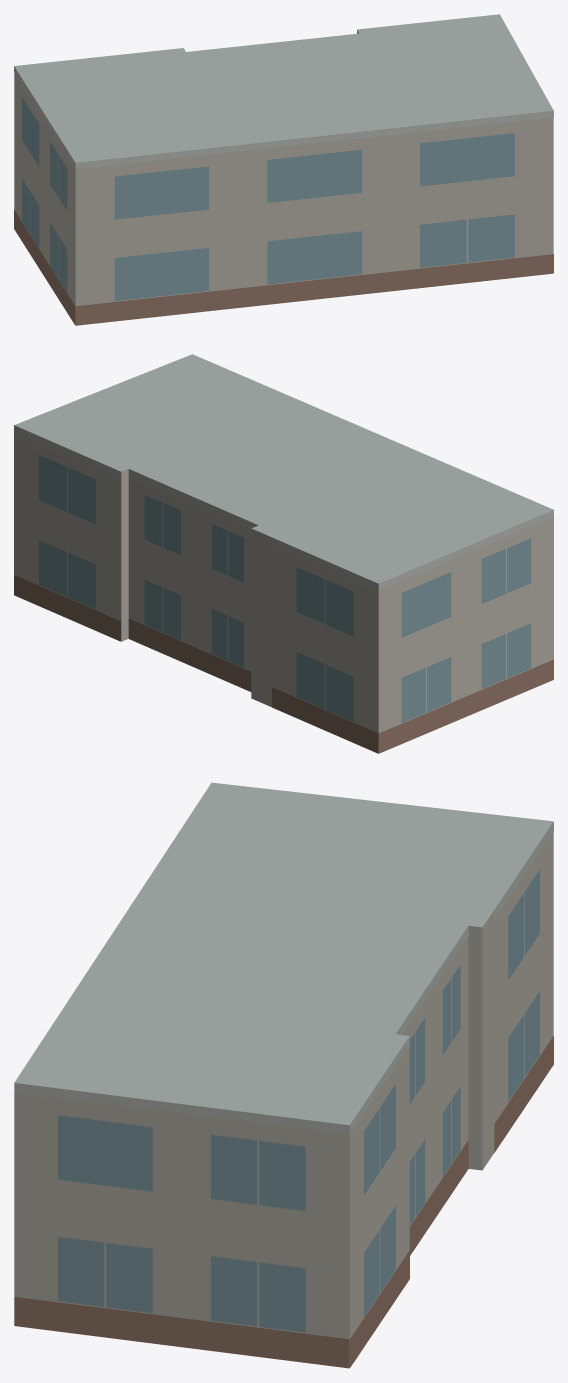
Rendered from survey-upis-32855589.glb.
3 renders of one model, top to bottom at view 1: azimuth 30°, elevation 25°; view 2: azimuth 150°, elevation 25°; view 3: azimuth 270°, elevation 25°, orthographic. The views are drawn at different scales.
Visible parts, largest first — view 1: survey-upis-32855589.tmp; view 2: survey-upis-32855589.tmp; view 3: survey-upis-32855589.tmp.
Boxes of the visible parts, x1,y1,x2,y2 form: survey-upis-32855589.tmp: (14, 14, 553, 325); survey-upis-32855589.tmp: (14, 354, 553, 753); survey-upis-32855589.tmp: (14, 782, 553, 1368).
Size of the model in its own units: 18.46 by 6.1 by 12.28.
